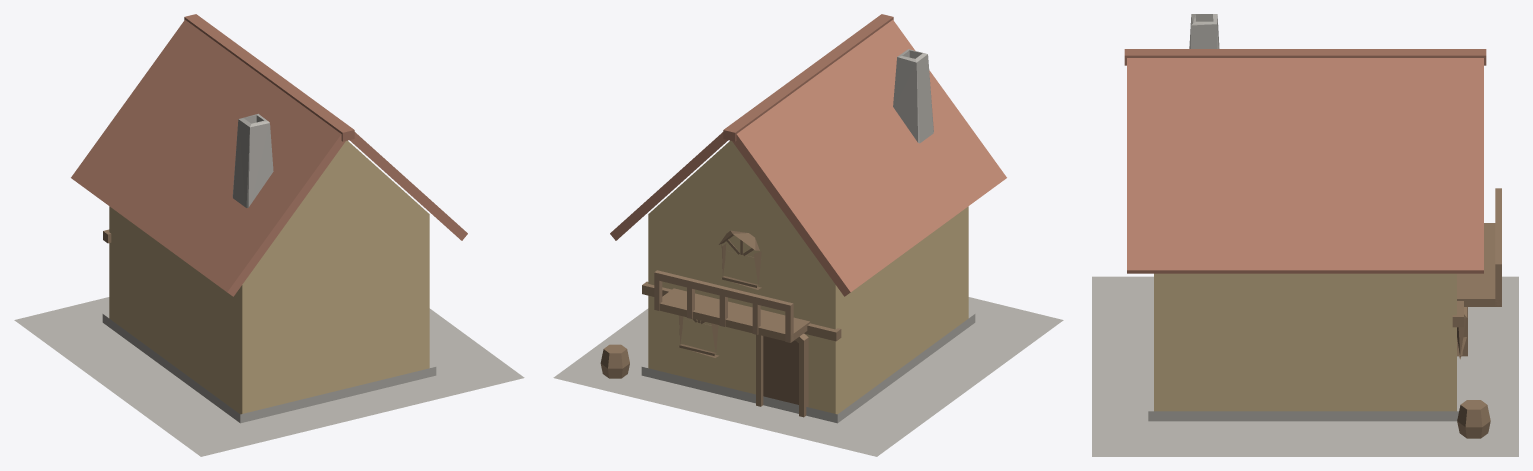
The model's file is house_citizens.v1.glb.
3 renders of one model, left to right at view 1: azimuth 30°, elevation 25°; view 2: azimuth 150°, elevation 25°; view 3: azimuth 270°, elevation 25°, orthographic. The views are drawn at different scales.
Parts seen in each view (by area): view 1: house_citizens; view 2: house_citizens; view 3: house_citizens.
Part boxes in pixels (bbox=[...]): house_citizens: bbox=[14, 14, 524, 456]; house_citizens: bbox=[553, 14, 1063, 456]; house_citizens: bbox=[1092, 14, 1518, 456].
Size of the model in its own units: 1.9 by 1.57 by 1.9.
